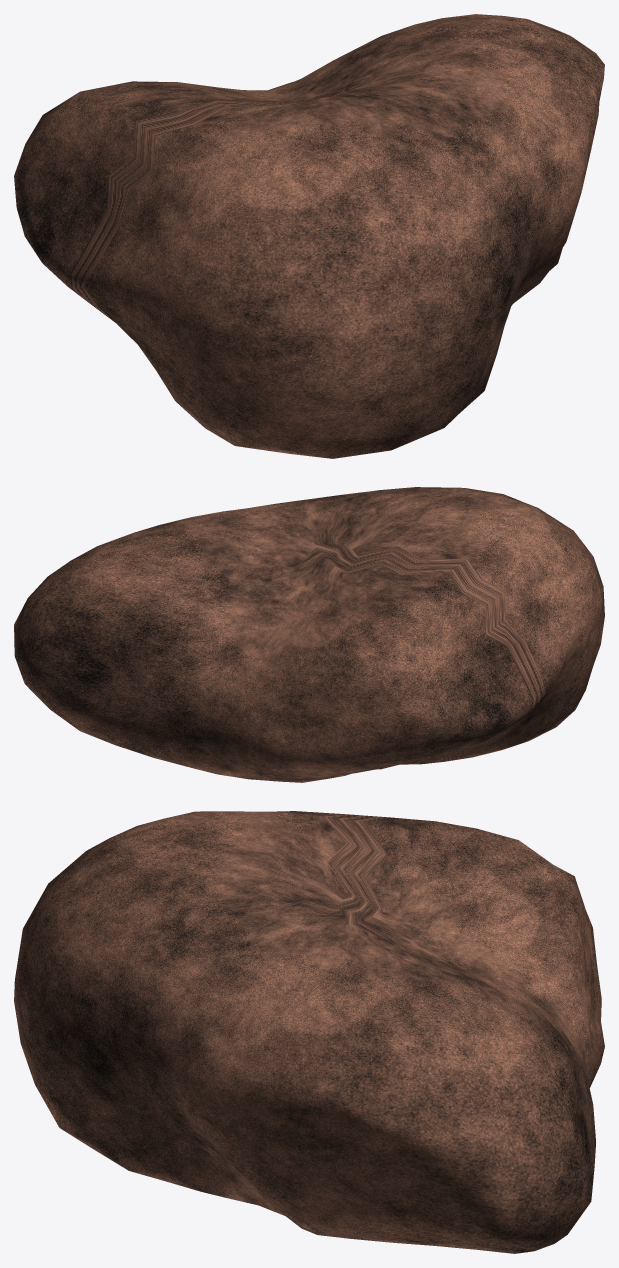
File: rock_6.dae
3 views of the same model, one above another, from view 1: azimuth 30°, elevation 25°; view 2: azimuth 150°, elevation 25°; view 3: azimuth 270°, elevation 25° (orthographic). The views are drawn at different scales.
Visible parts, largest first — view 1: rock_6-node; view 2: rock_6-node; view 3: rock_6-node.
Part boxes in pixels (left/top/right/bottom): rock_6-node: left=14, top=14, right=604, bottom=458; rock_6-node: left=14, top=487, right=604, bottom=782; rock_6-node: left=14, top=811, right=604, bottom=1253.
Bounding box in the file's own units: 1.67 × 1.4 × 0.7011.
1 material, 1 textured.
